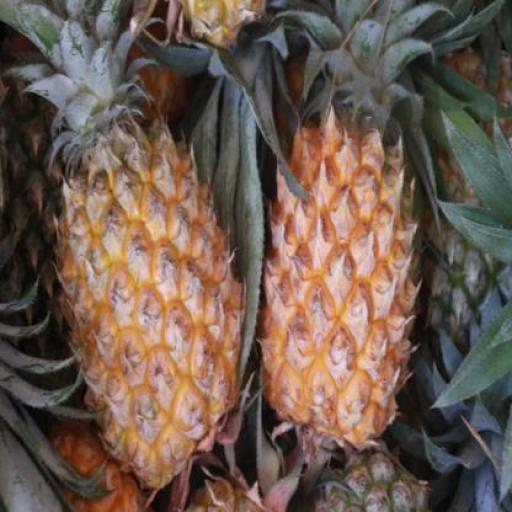Pineapple - v8 v1: (51, 125, 244, 485), (261, 116, 416, 454)
